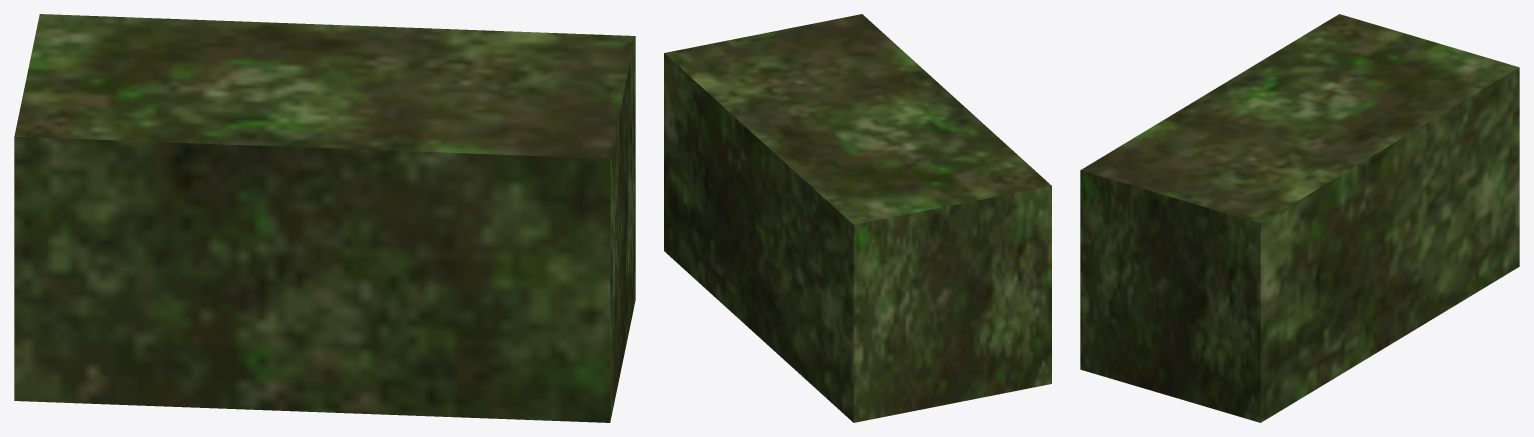
Rendered from OVERHILL_A_01_STONE_BLOCK_04.fbx.
The picture shows the model from 3 angles, left to right: view 1: azimuth 30°, elevation 25°; view 2: azimuth 150°, elevation 25°; view 3: azimuth 270°, elevation 25°; orthographic projection. The views are drawn at different scales.
Parts seen in each view (by area): view 1: OVERHILL_A_01_STONE_BLOCK_04; view 2: OVERHILL_A_01_STONE_BLOCK_04; view 3: OVERHILL_A_01_STONE_BLOCK_04.
Boxes of the visible parts, <box> form: OVERHILL_A_01_STONE_BLOCK_04: <box>14,14,635,422</box>; OVERHILL_A_01_STONE_BLOCK_04: <box>664,14,1051,422</box>; OVERHILL_A_01_STONE_BLOCK_04: <box>1080,14,1519,422</box>.
Size of the model in its own units: 17836 by 7913 by 15792.
Materials: 1 (1 with a texture image).
